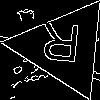R: (38, 22, 83, 72)
